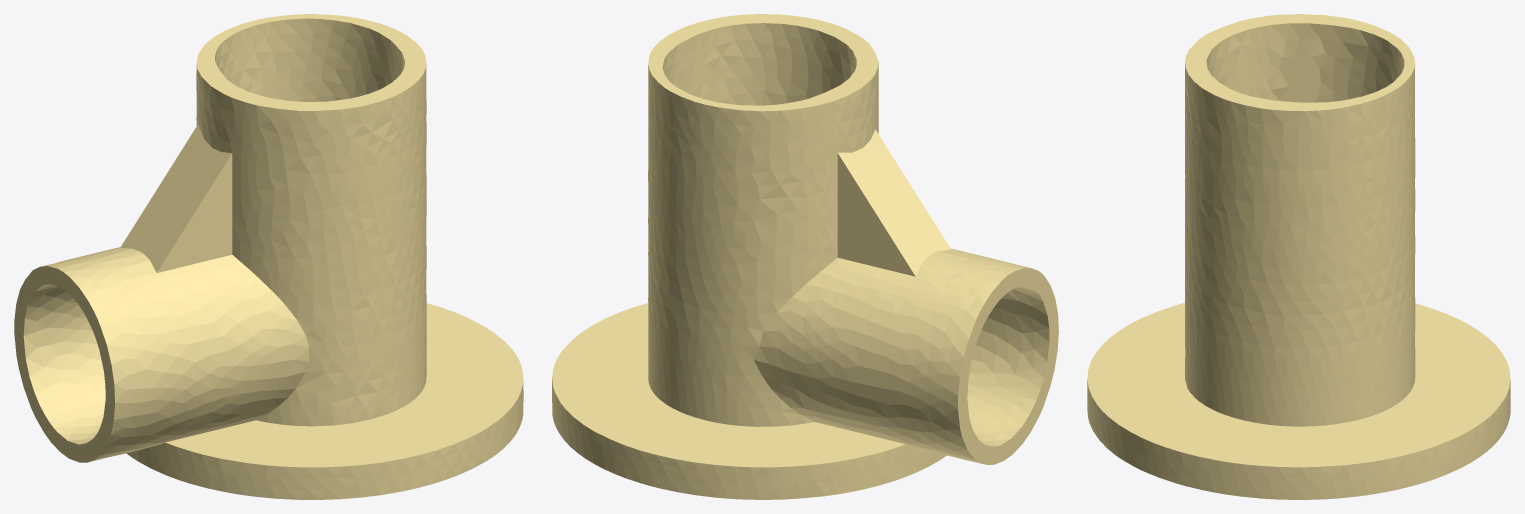
The model's file is input.gltf.
3 views of the same model, side by side, from view 1: azimuth 30°, elevation 25°; view 2: azimuth 150°, elevation 25°; view 3: azimuth 270°, elevation 25° (orthographic).
Parts seen in each view (by area): view 1: Renderer Node; view 2: Renderer Node; view 3: Renderer Node.
Part boxes in pixels (bbox=[...]): Renderer Node: bbox=[14, 14, 523, 499]; Renderer Node: bbox=[552, 14, 1058, 499]; Renderer Node: bbox=[1087, 14, 1510, 499].
Bounding box in the file's own units: 0.9682 × 0.75 × 0.8269.
